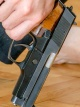pistol: (2, 1, 80, 106)
